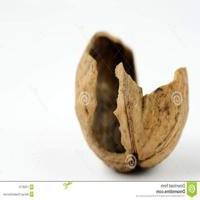biodegradable: (73, 30, 190, 175)
